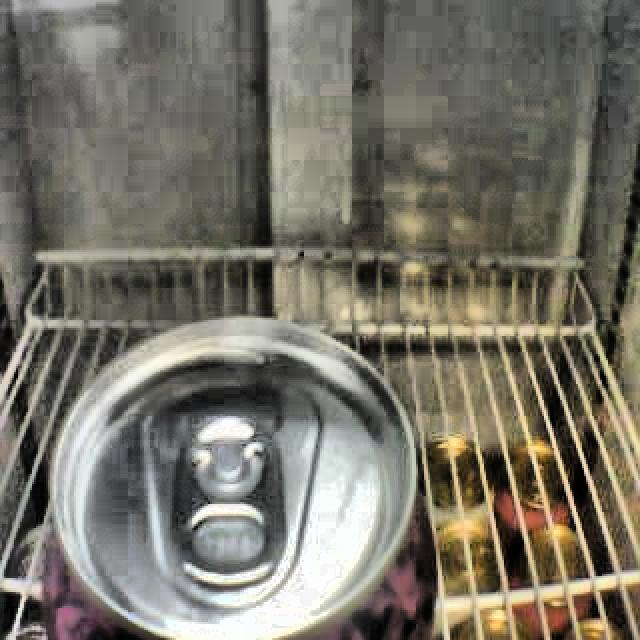metal: (6, 302, 446, 640)
